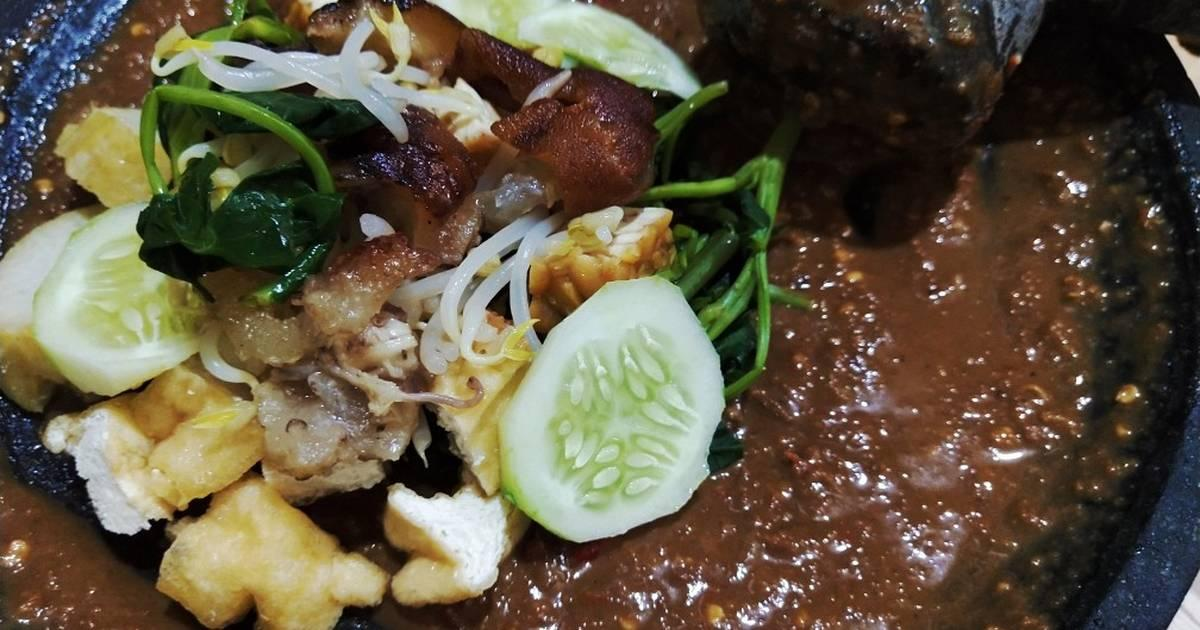rujak_cingur: (1, 3, 786, 630)
